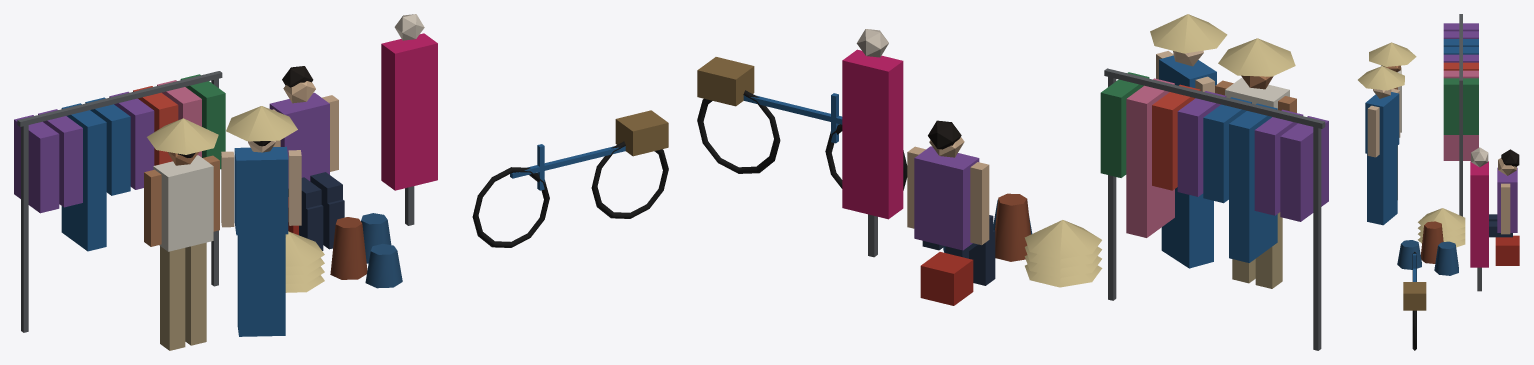
The model's file is hoi_an_shop_spill.glb.
3 renders of one model, left to right at view 1: azimuth 30°, elevation 25°; view 2: azimuth 150°, elevation 25°; view 3: azimuth 270°, elevation 25°, orthographic. The views are drawn at different scales.
Visible parts, largest first — view 1: HoiAnShopSpill_mat0; view 2: HoiAnShopSpill_mat0; view 3: HoiAnShopSpill_mat0.
Boxes of the visible parts, x1,y1,x2,y2 form: HoiAnShopSpill_mat0: (14, 14, 668, 350); HoiAnShopSpill_mat0: (697, 14, 1328, 350); HoiAnShopSpill_mat0: (1358, 14, 1519, 350).
Size of the model in its own units: 5.17 by 1.82 by 1.75.
